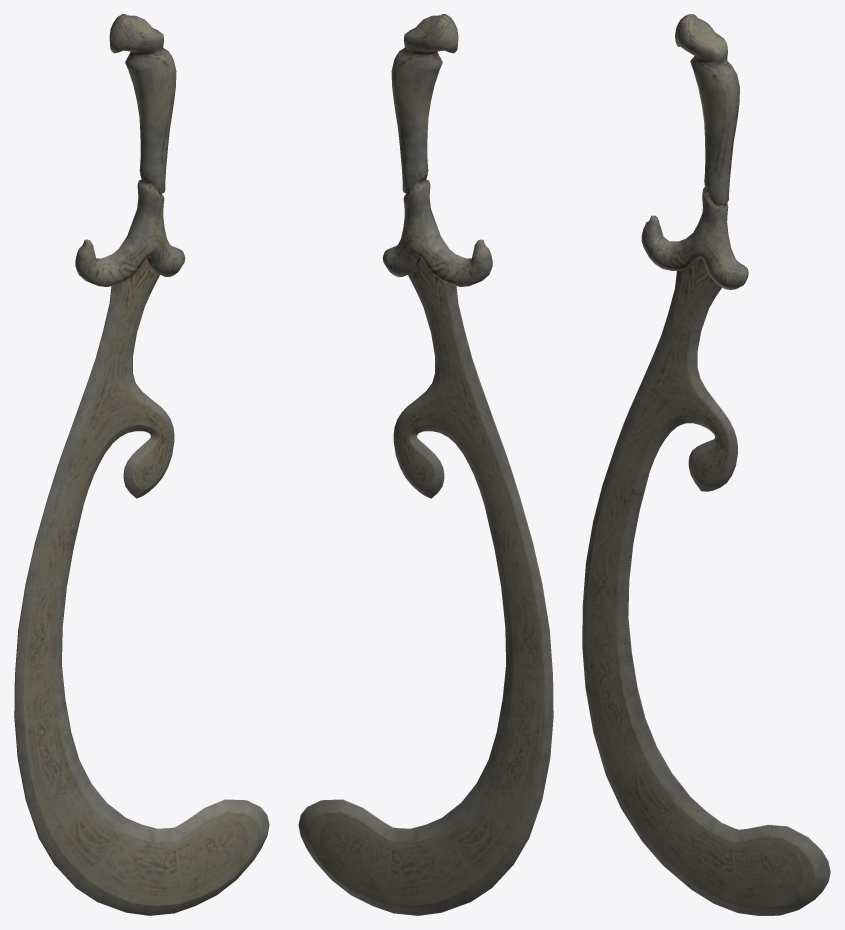
The model's file is weapon-wp_a_0418.glb.
3 views of the same model, side by side, from view 1: azimuth 30°, elevation 25°; view 2: azimuth 150°, elevation 25°; view 3: azimuth 330°, elevation 25° (orthographic). The views are drawn at different scales.
Visible parts, largest first — view 1: wp_a_0418_mesh; view 2: wp_a_0418_mesh; view 3: wp_a_0418_mesh.
Part boxes in pixels (x1,y1,x2,y2): wp_a_0418_mesh: (14, 14, 269, 915); wp_a_0418_mesh: (298, 14, 553, 915); wp_a_0418_mesh: (582, 14, 830, 915).
Bounding box in the file's own units: 0.3101 × 1.06 × 0.0406.
Materials: 1 (1 with a texture image).
